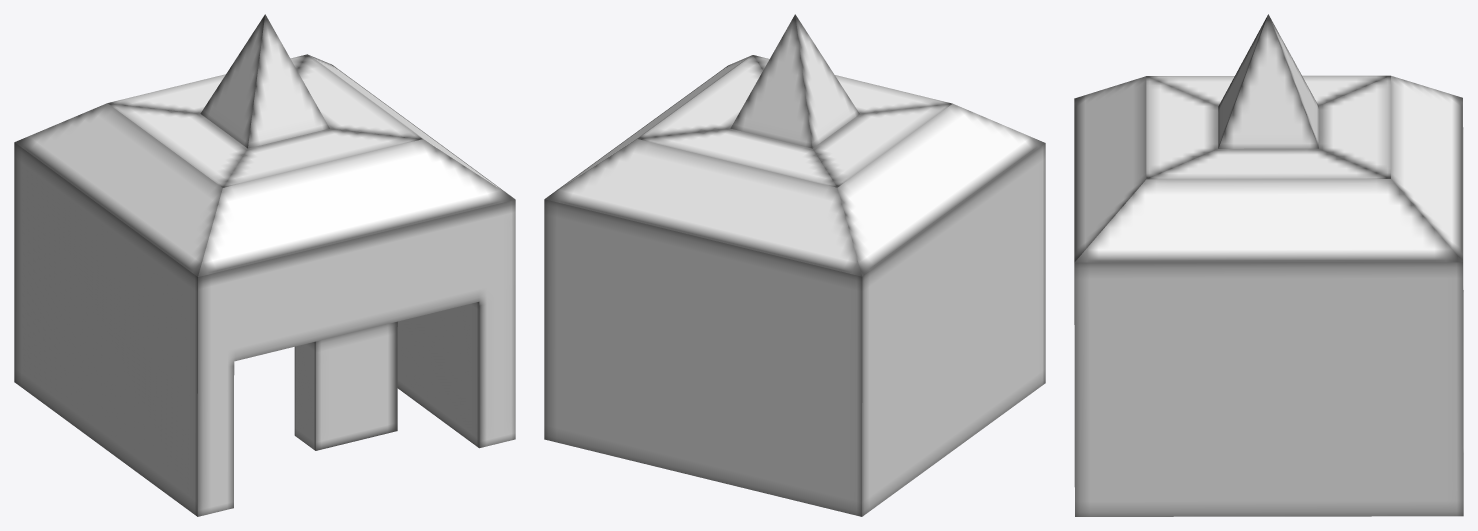
Rendered from Helmet-01.fbx.
3 views of the same model, side by side, from view 1: azimuth 30°, elevation 25°; view 2: azimuth 150°, elevation 25°; view 3: azimuth 270°, elevation 25° (orthographic). The views are drawn at different scales.
Parts seen in each view (by area): view 1: Helmet_01; view 2: Helmet_01; view 3: Helmet_01.
Boxes of the visible parts, <box> form: Helmet_01: <box>14,14,515,516</box>; Helmet_01: <box>544,14,1045,516</box>; Helmet_01: <box>1074,14,1463,516</box>.
Bounding box in the file's own units: 0.2345 × 0.2801 × 0.2348.
